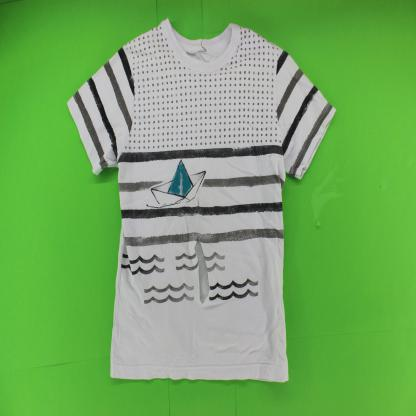hole: (193, 234, 210, 306)
